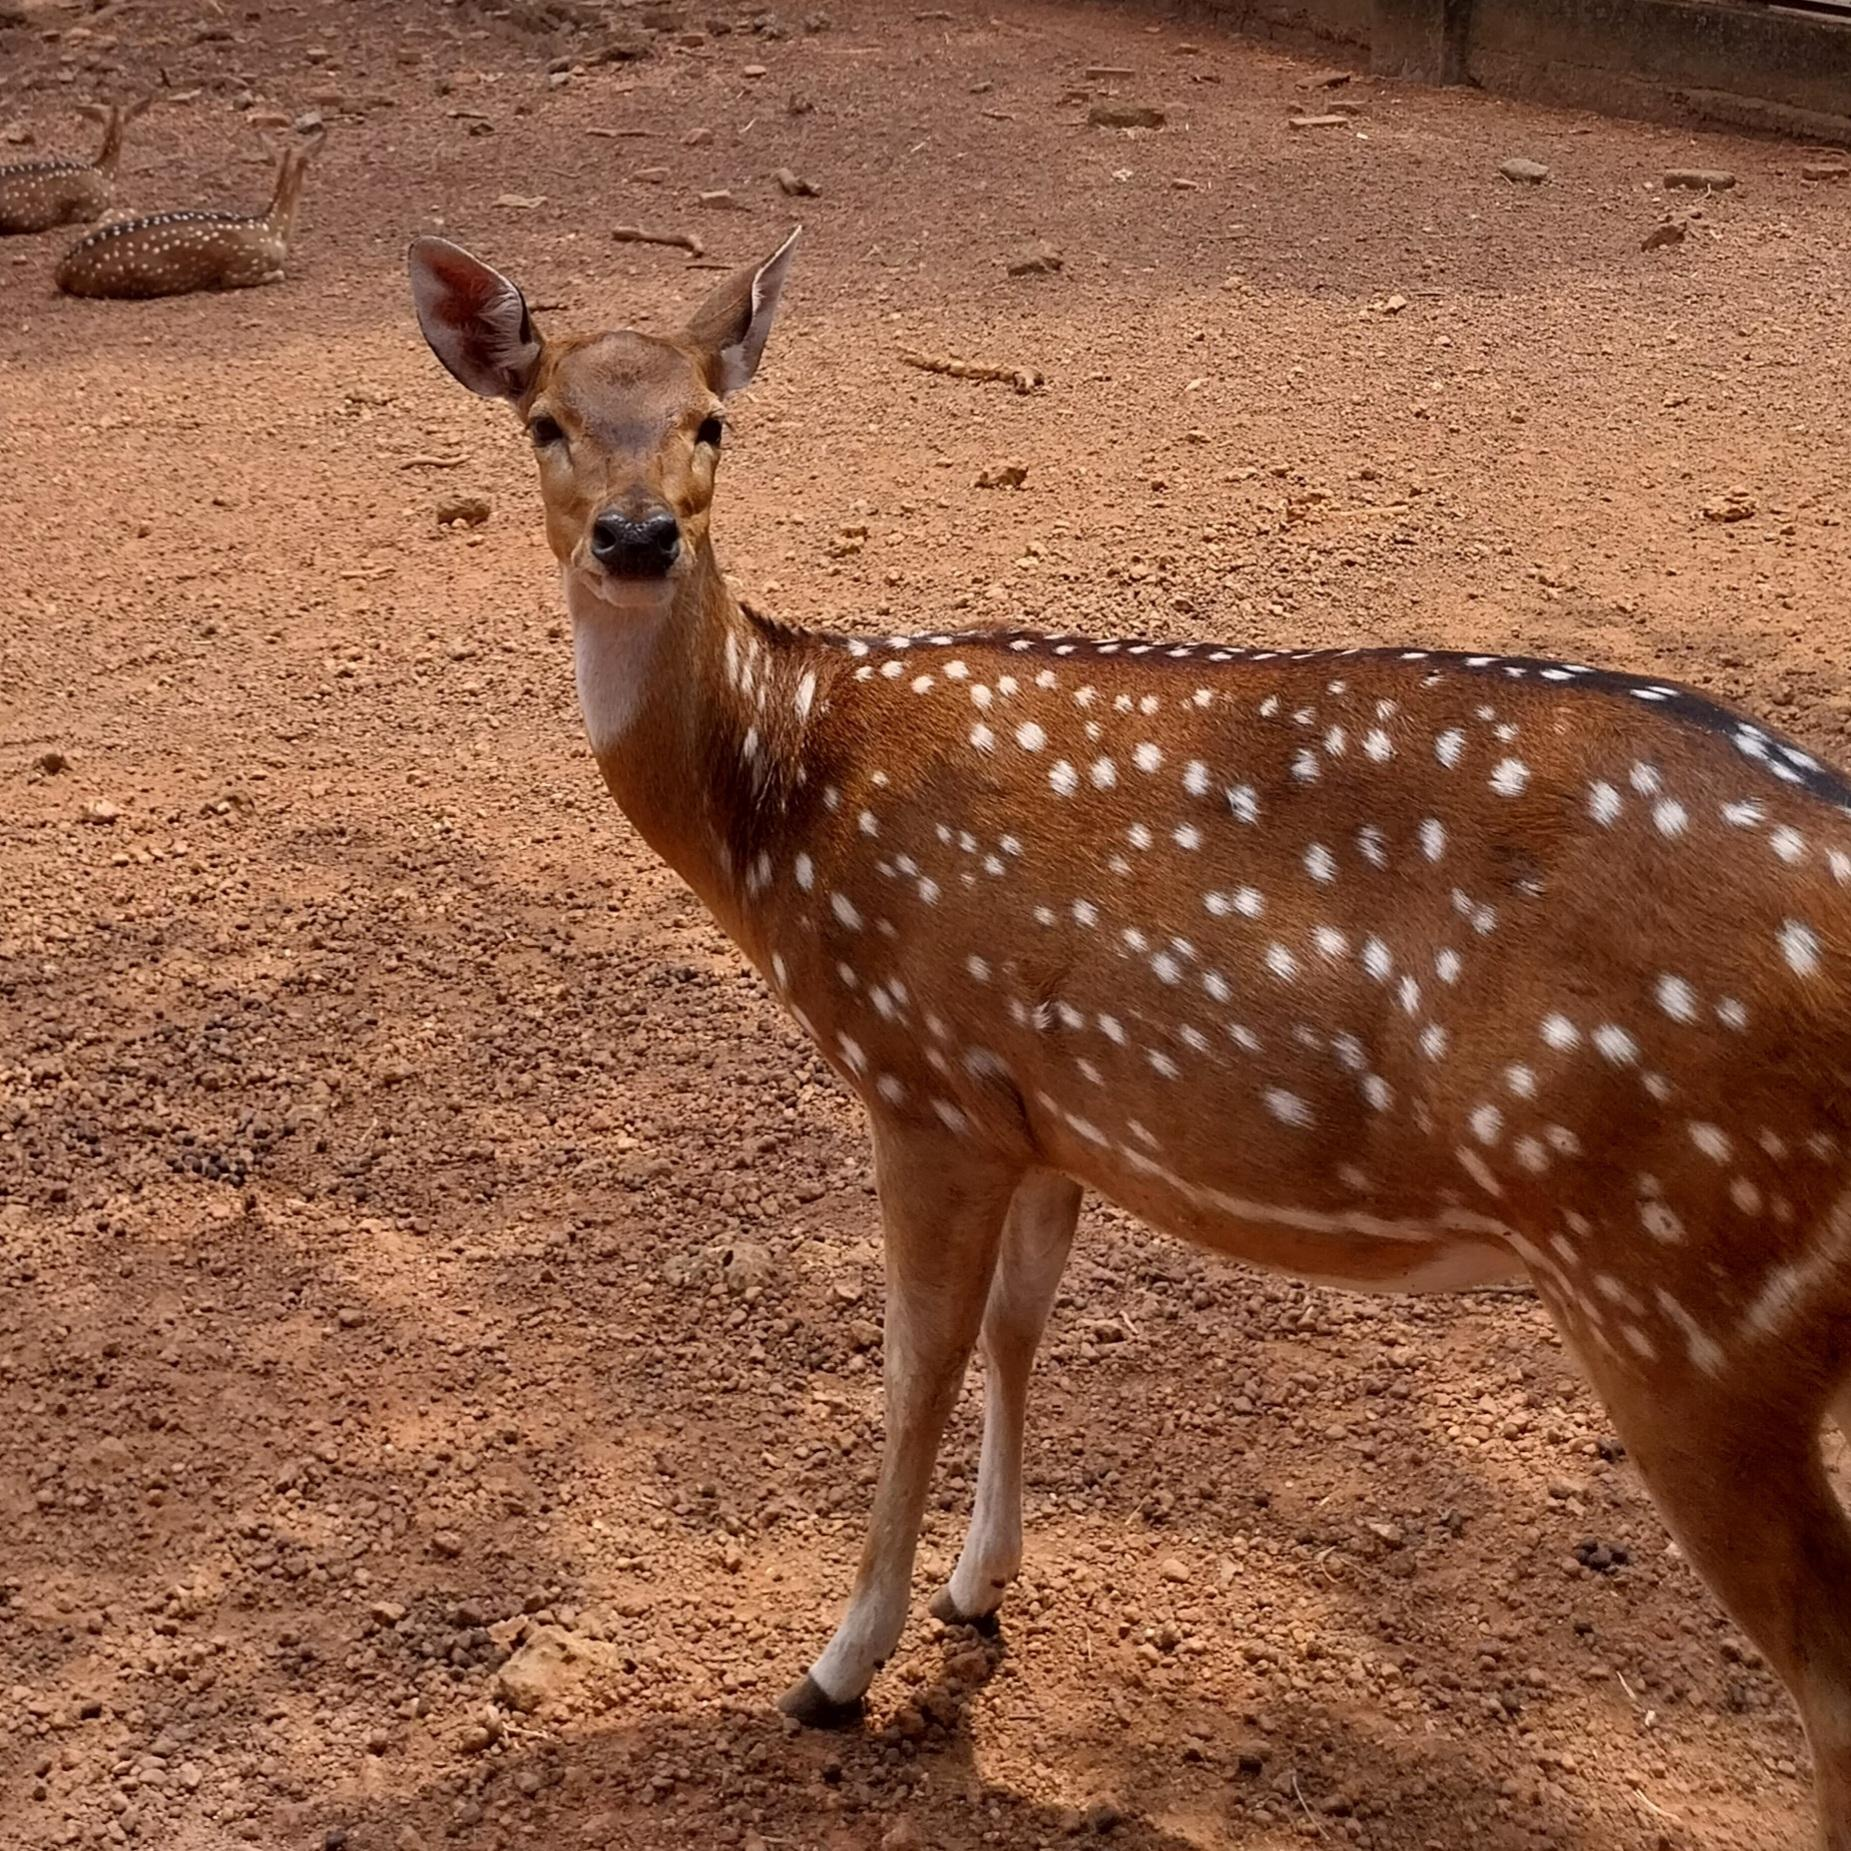Deer: (409, 225, 1849, 1849), (54, 124, 324, 298), (0, 93, 163, 236)
